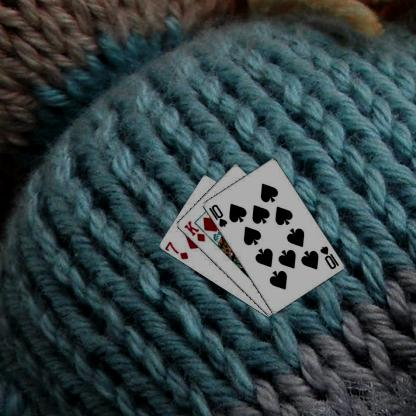10S: (206, 201, 228, 228), (318, 244, 340, 271)
7D: (162, 239, 190, 261)
KD: (181, 219, 206, 243)
